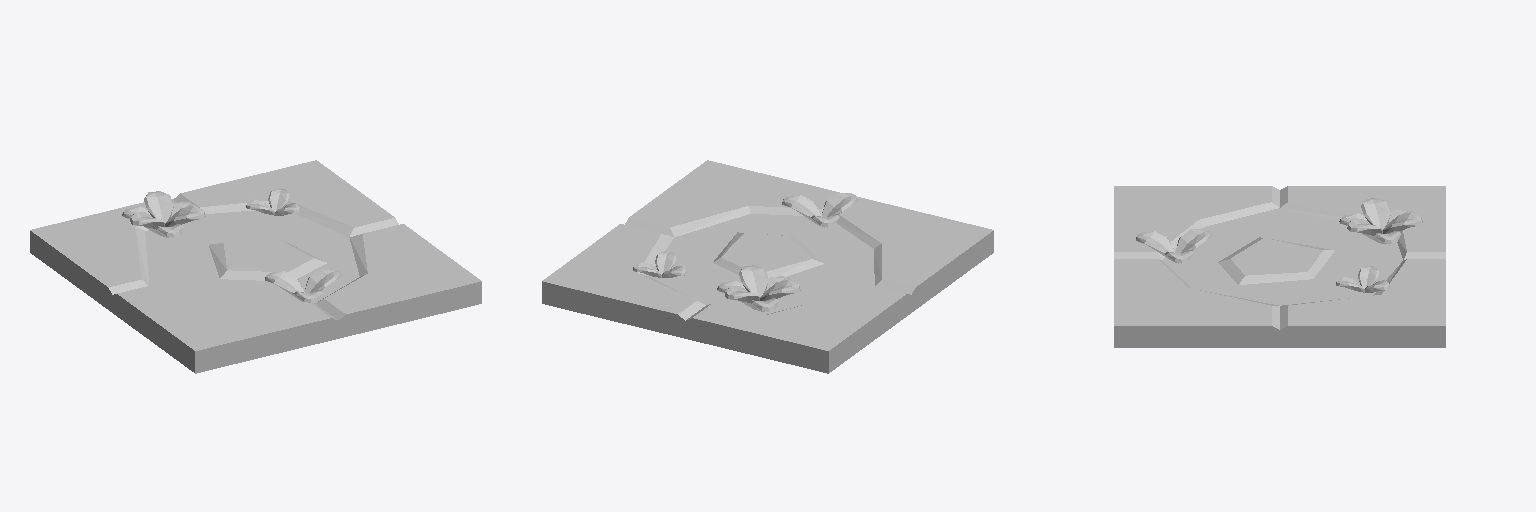
The model's file is floor_tile_small_weeds_A.obj.
The picture shows the model from 3 angles: view 1: azimuth 30°, elevation 25°; view 2: azimuth 150°, elevation 25°; view 3: azimuth 270°, elevation 25°; orthographic projection.
Visible parts, largest first — view 1: floor_tile_small_weeds_A; view 2: floor_tile_small_weeds_A; view 3: floor_tile_small_weeds_A.
Boxes of the visible parts, <box> form: floor_tile_small_weeds_A: <box>30,160,481,373</box>; floor_tile_small_weeds_A: <box>542,160,993,373</box>; floor_tile_small_weeds_A: <box>1114,186,1445,347</box>.
Bounding box in the file's own units: 2 × 0.2955 × 2.